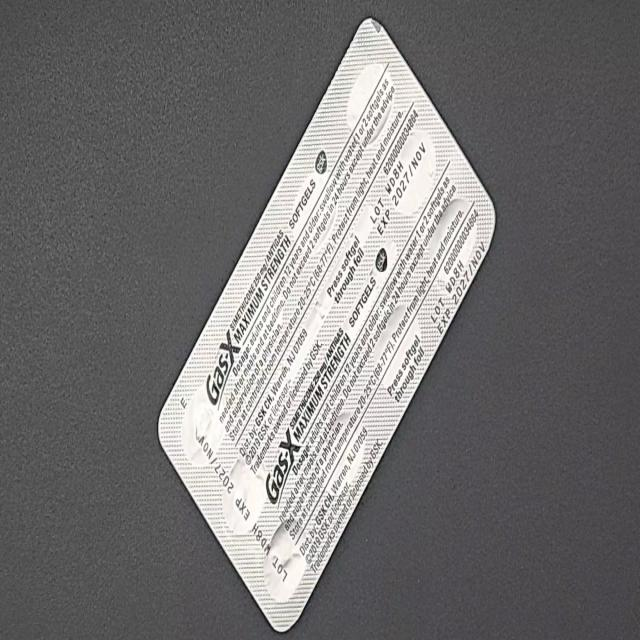no defect: (11, 16, 33, 62)
